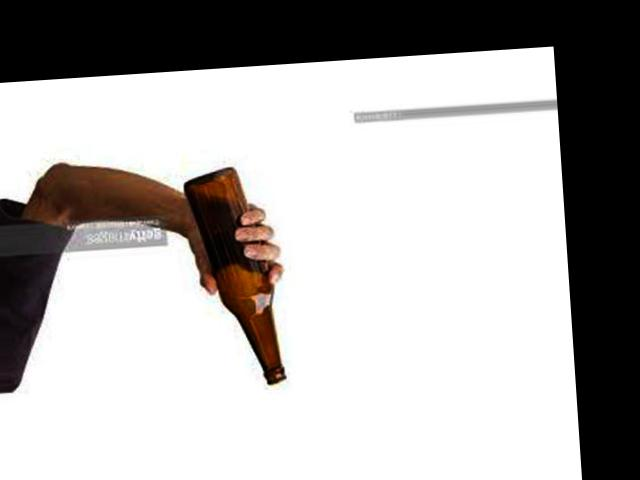beer: (180, 165, 286, 388)
